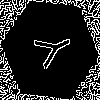Y: (25, 25, 76, 75)
